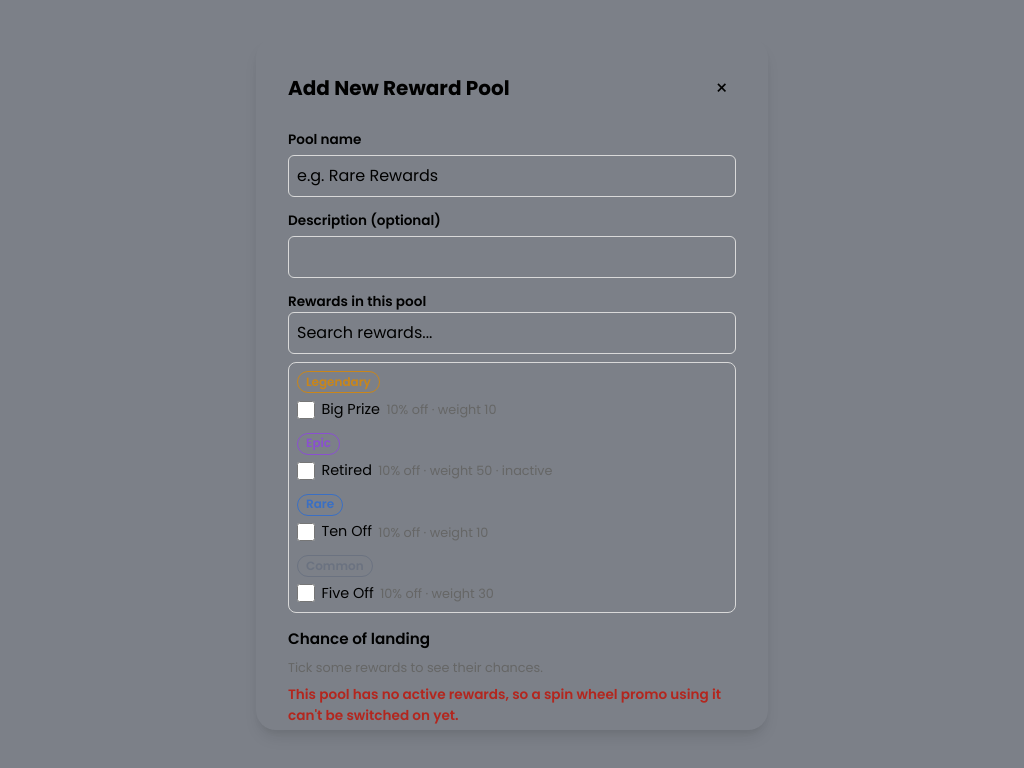
RewardPoolBuilderModal (session 114) › an inactive reward can sit in the pool but gets no chance
The width and height of the screenshot is (1024, 768).
Click the checkbox labelled "Five Off 10% off · weight 30".
click(306, 593)  # box top-left (297, 584), bottom-right (315, 602)
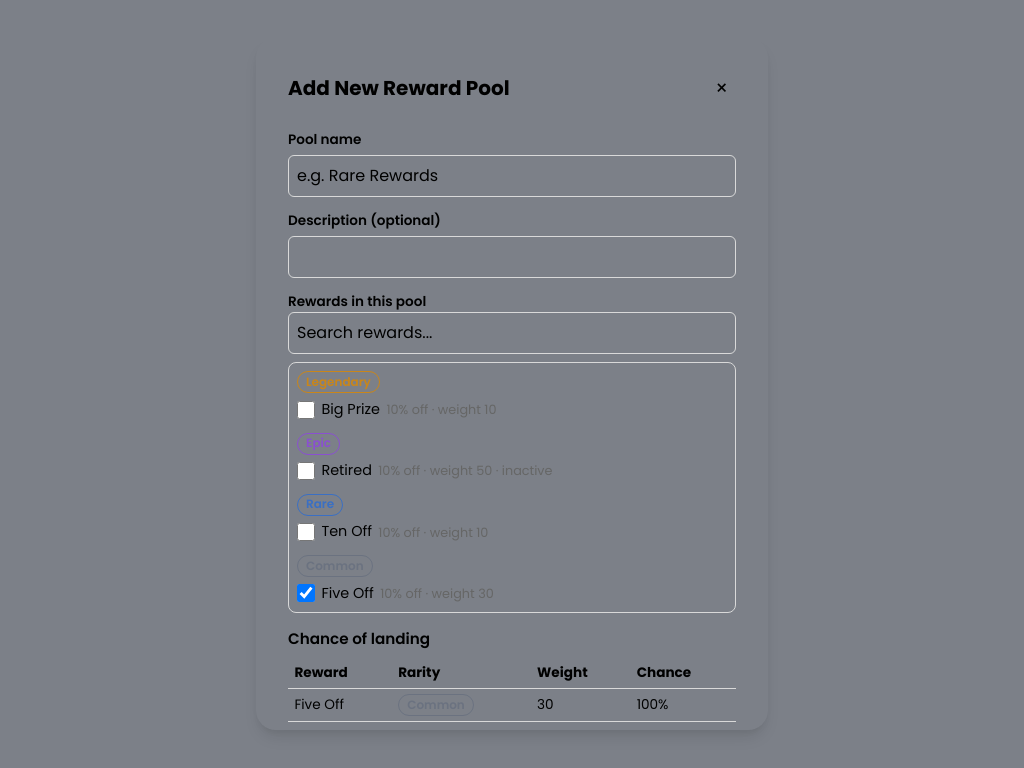
Click the checkbox labelled "Retired 10% off · weight 50 · inactive".
click(306, 471)  # box top-left (297, 462), bottom-right (315, 480)
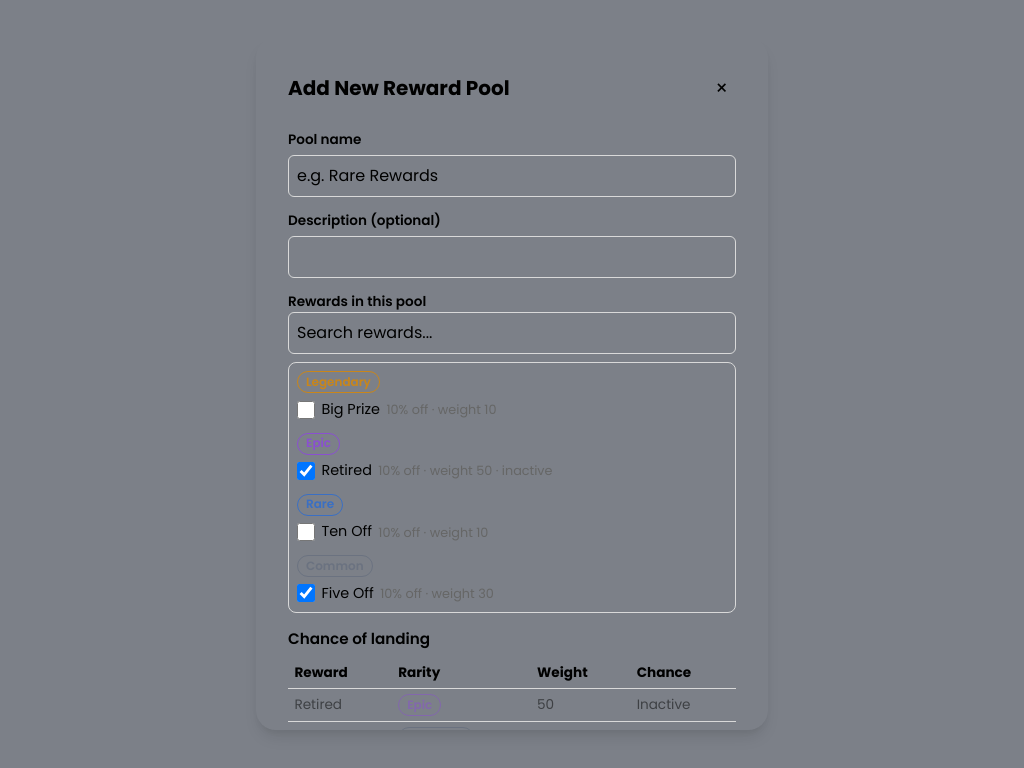
Now the text "Inactive" is shown, box top-left (630, 689), bottom-right (736, 721)
